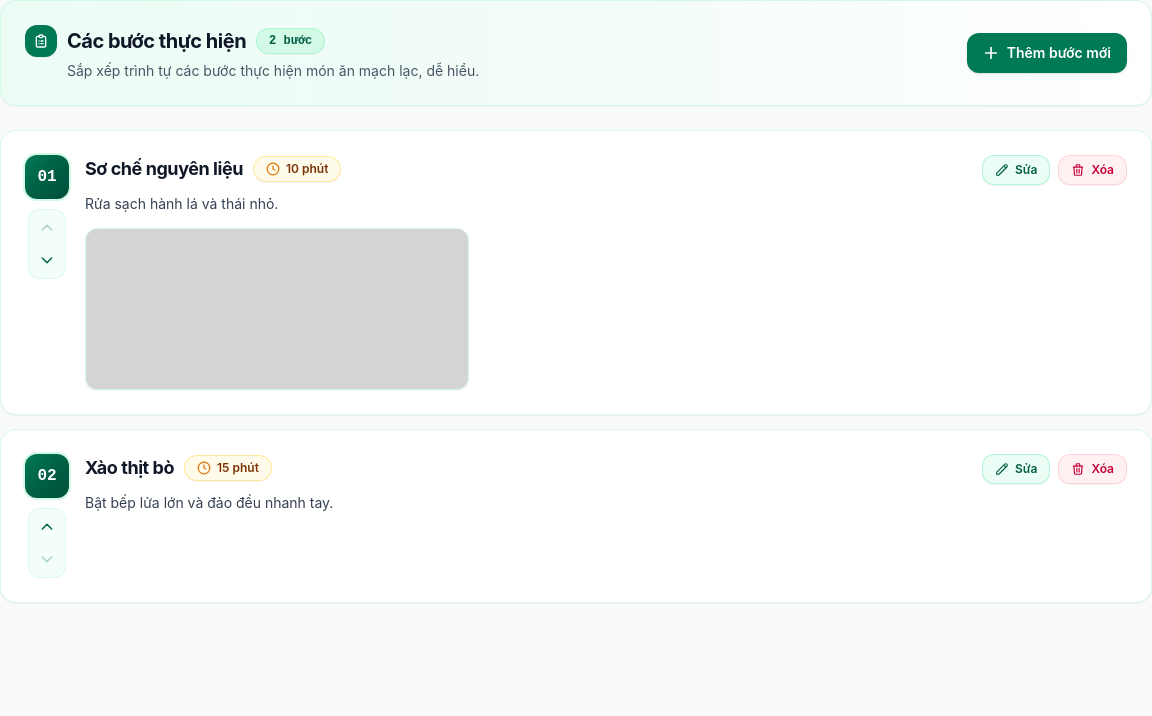
Test: StepEditor Component › 8. Update Step trong Direct API mode: Gọi updateRecipeStep và cập nhật nội dung
# Nhấn nút Sửa ở bước 1
Step 1. Click the button with test id "btn-edit-step-0" → (1016, 170), box [982, 155, 1050, 185]
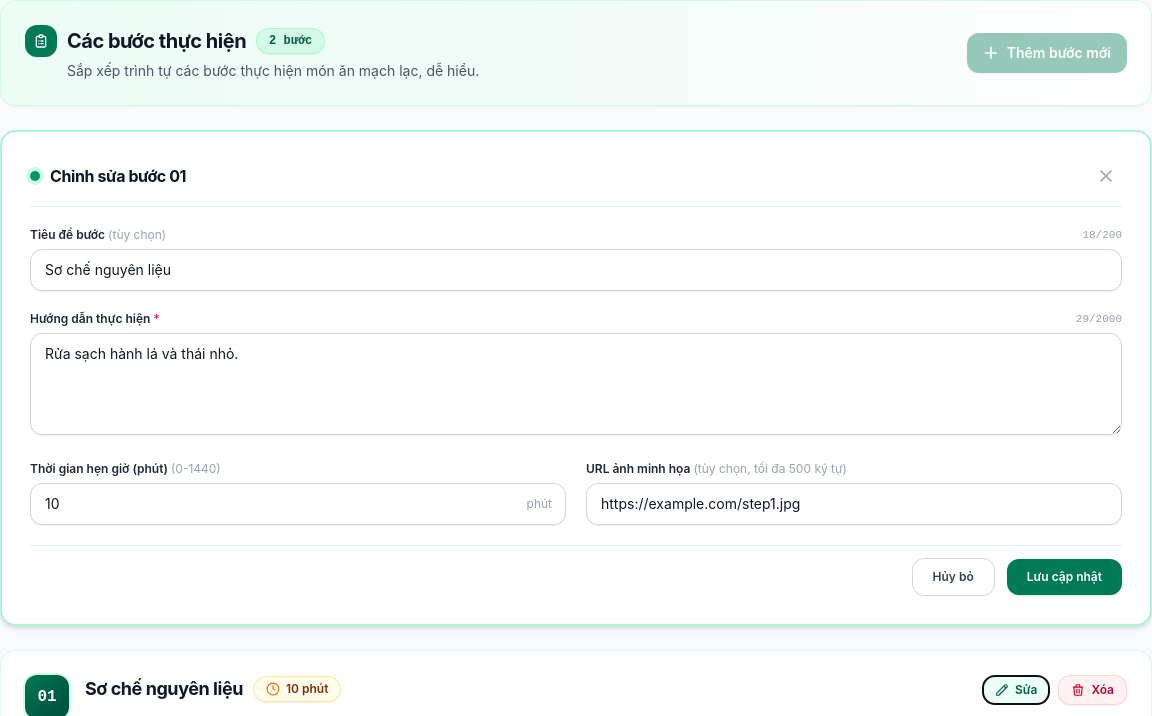
Expected: the field with test id "input-step-title" holds "Sơ chế nguyên liệu"
Step 2. Replace the text in the field with test id "input-step-title" with "Sơ chế rau củ kỹ càng" → (576, 270), box [30, 249, 1122, 291]
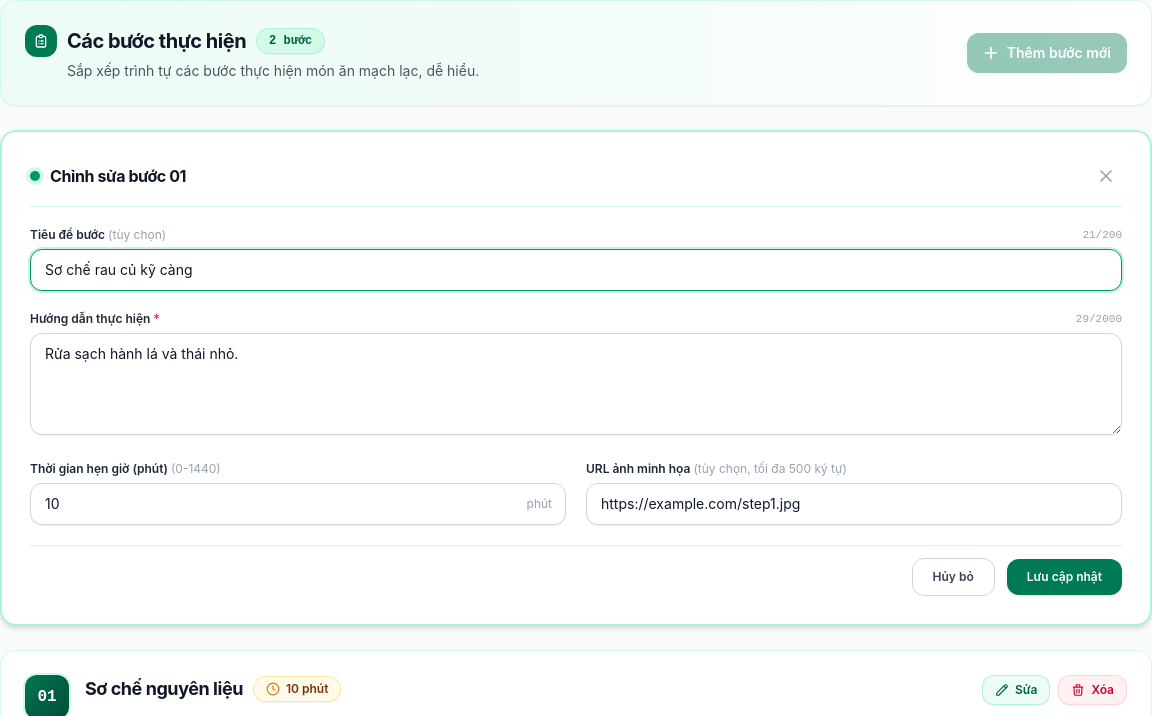
Step 3. Replace the text in the text box with test id "input-step-description" with "Rửa 3 lần với nước muối." → (576, 384), box [30, 333, 1122, 435]
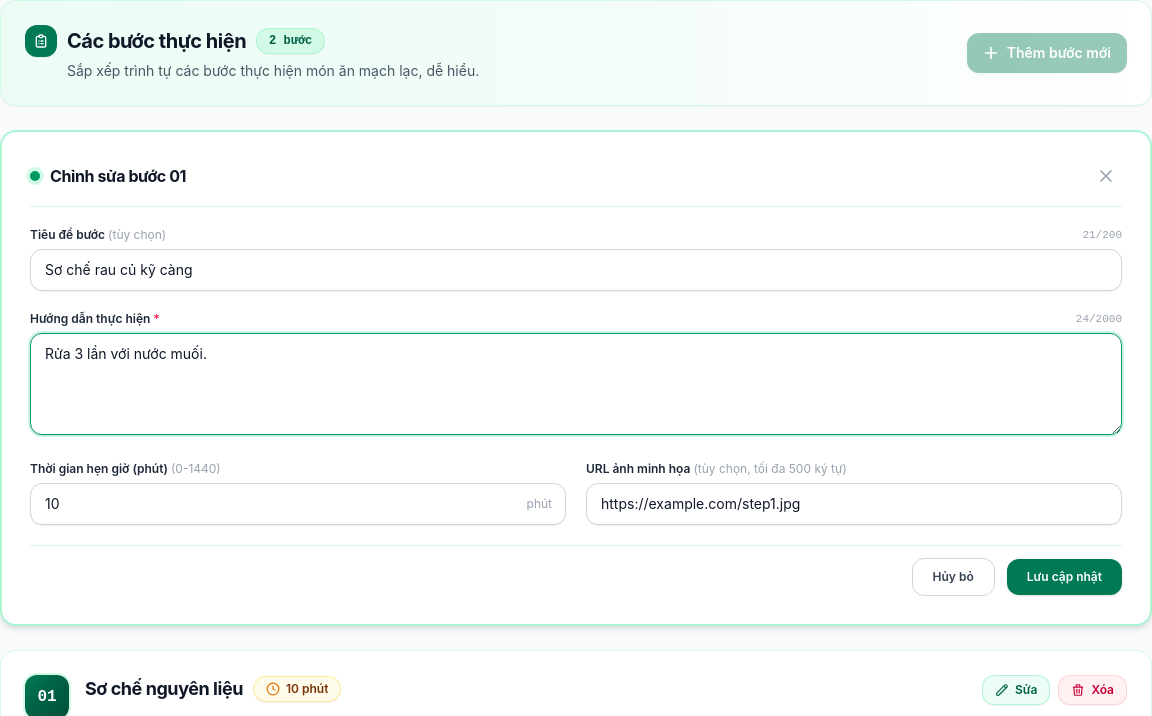
Step 4. Click the button with test id "btn-save-step" → (1064, 577), box [1007, 559, 1122, 595]
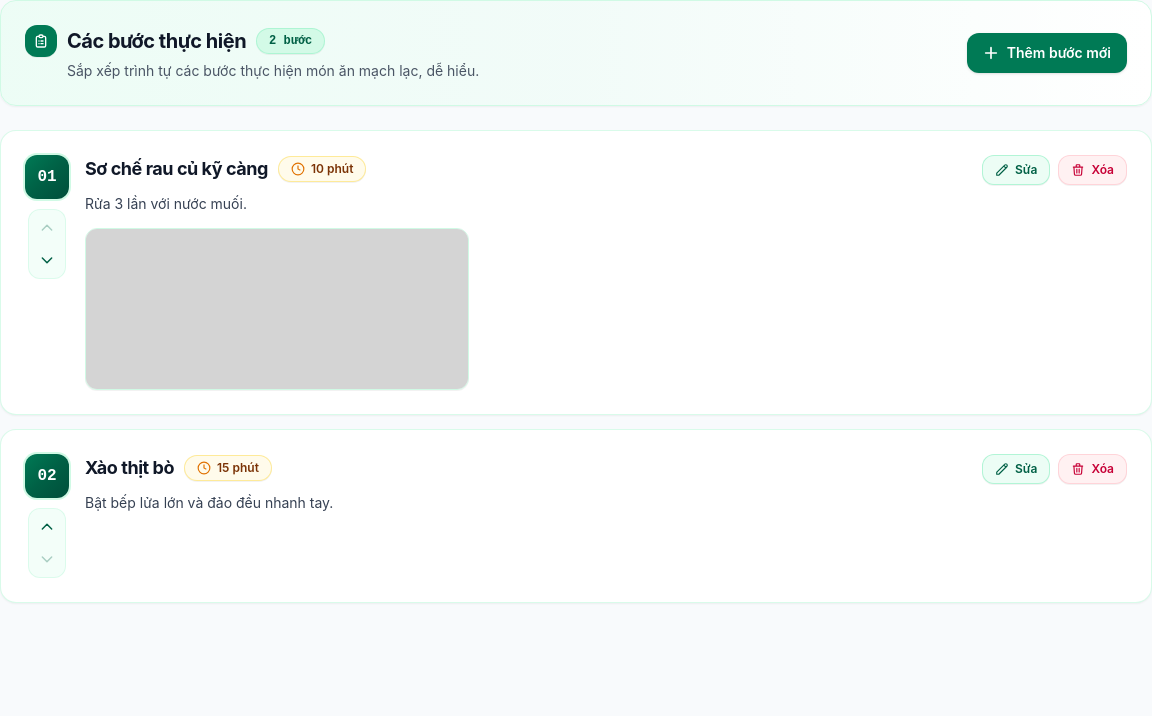
Expected: the heading "Sơ chế rau củ kỹ càng" is shown, [85, 155, 268, 183]
